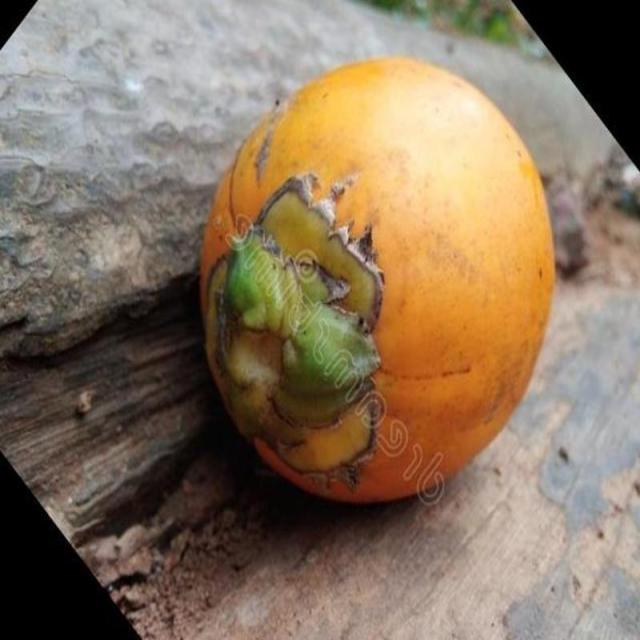good: (197, 57, 557, 507)
